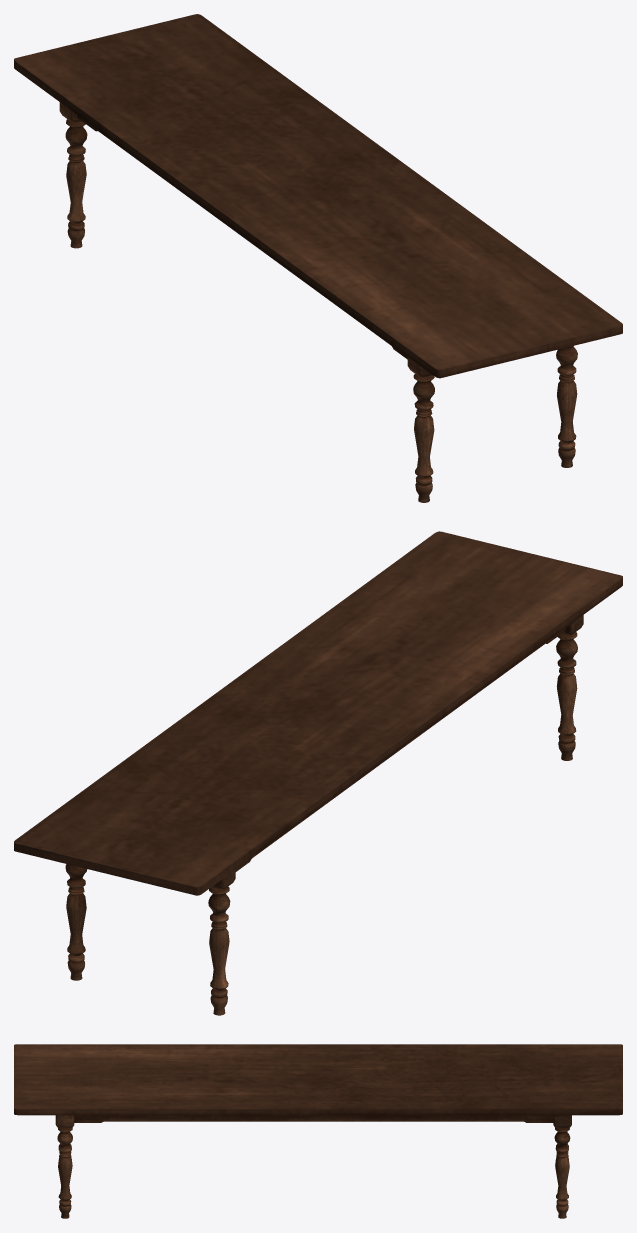
Rendered from table.glb.
3 renders of one model, top to bottom at view 1: azimuth 30°, elevation 25°; view 2: azimuth 150°, elevation 25°; view 3: azimuth 270°, elevation 25°, orthographic. The views are drawn at different scales.
Parts seen in each view (by area): view 1: Cube.003, Cube.002; view 2: Cube.003, Cube.002; view 3: Cube.003, Cube.001, Cube.002.
Boxes of the visible parts, x1=… form: Cube.003: x1=14, y1=14, x2=622, y2=378; Cube.002: x1=59, y1=102, x2=577, y2=502; Cube.003: x1=14, y1=531, x2=622, y2=895; Cube.002: x1=65, y1=615, x2=583, y2=1015; Cube.003: x1=14, y1=1044, x2=622, y2=1115; Cube.001: x1=74, y1=1115, x2=553, y2=1122; Cube.002: x1=55, y1=1115, x2=571, y2=1218.
Bounding box in the file's own units: 7.18 × 5.92 × 28.33.
1 material, 1 textured.
